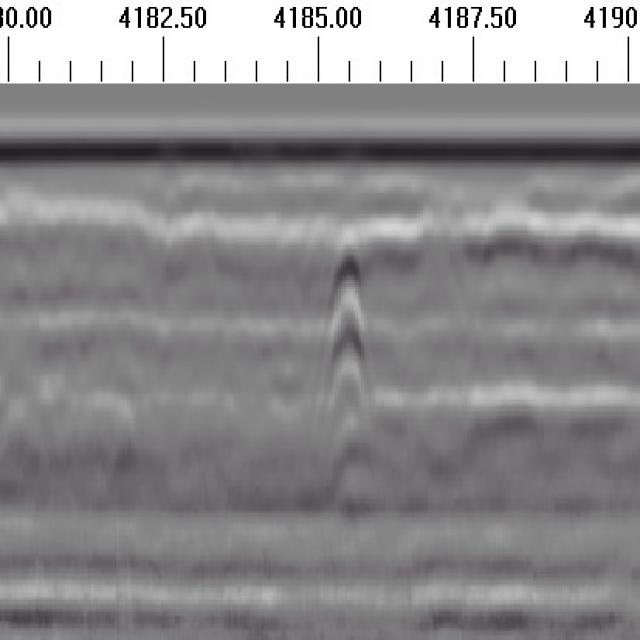crack: (328, 212, 365, 440)
